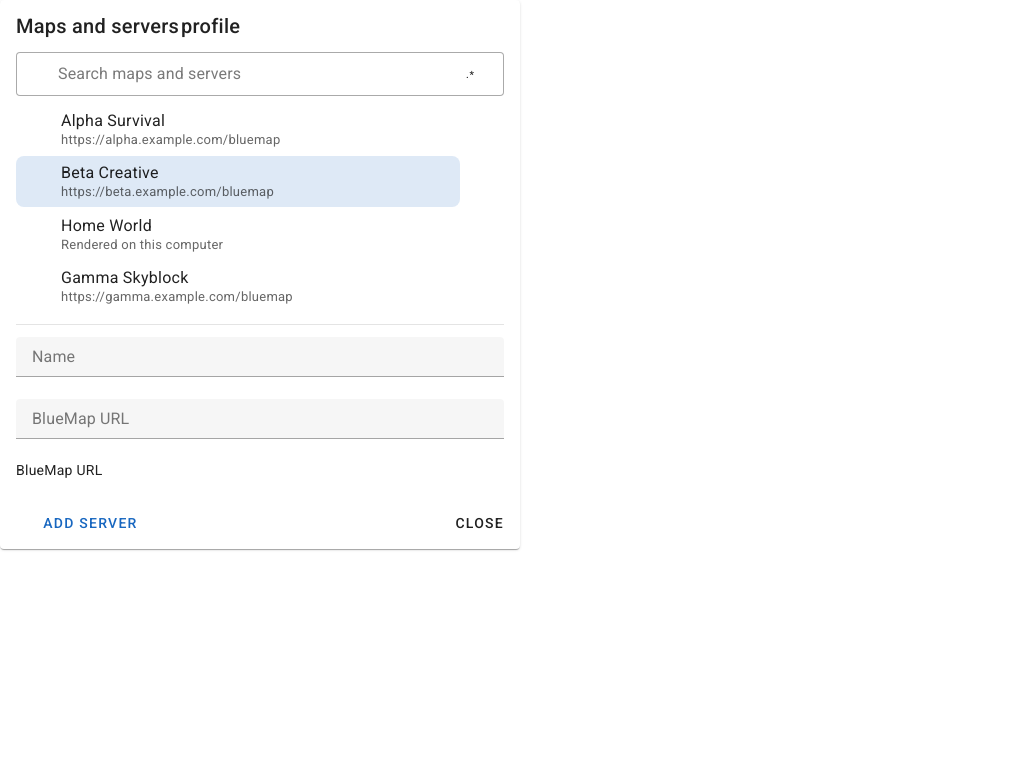
Test: the delete gate › is reachable from the row menu, through that same one gate
Right-click the option "Alpha Survival https://alpha.example.com/bluemap" at (171, 129), box [61,111,280,147]
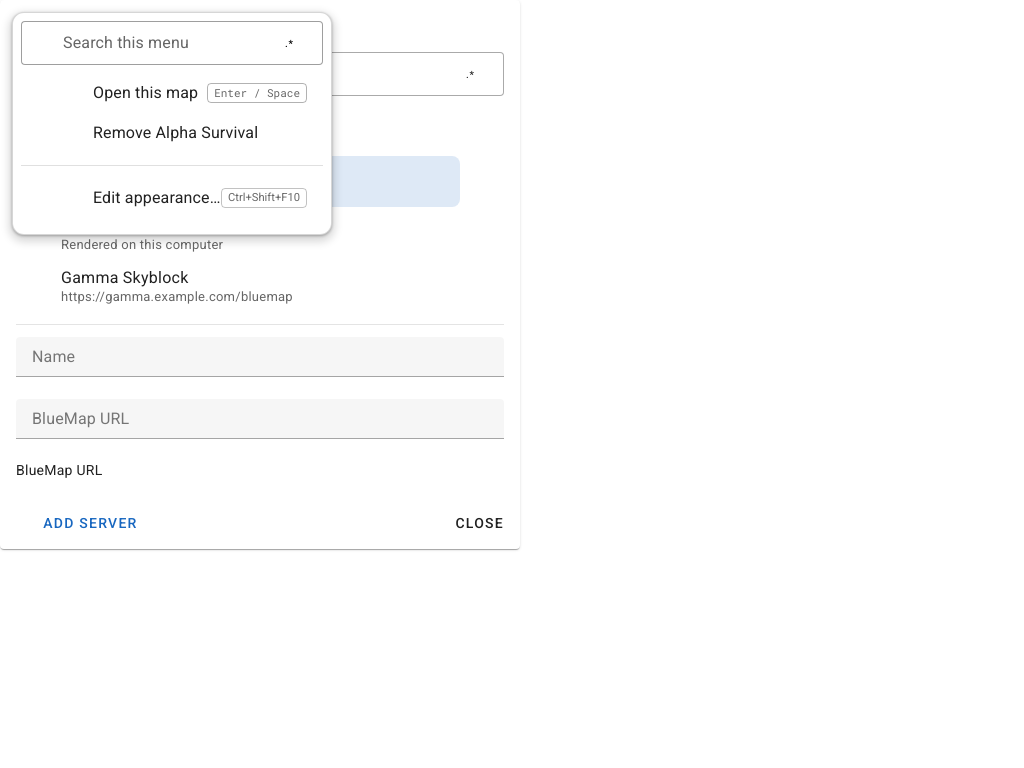
Click the list item "Remove Alpha Survival" at (176, 132), box [93,123,258,142]
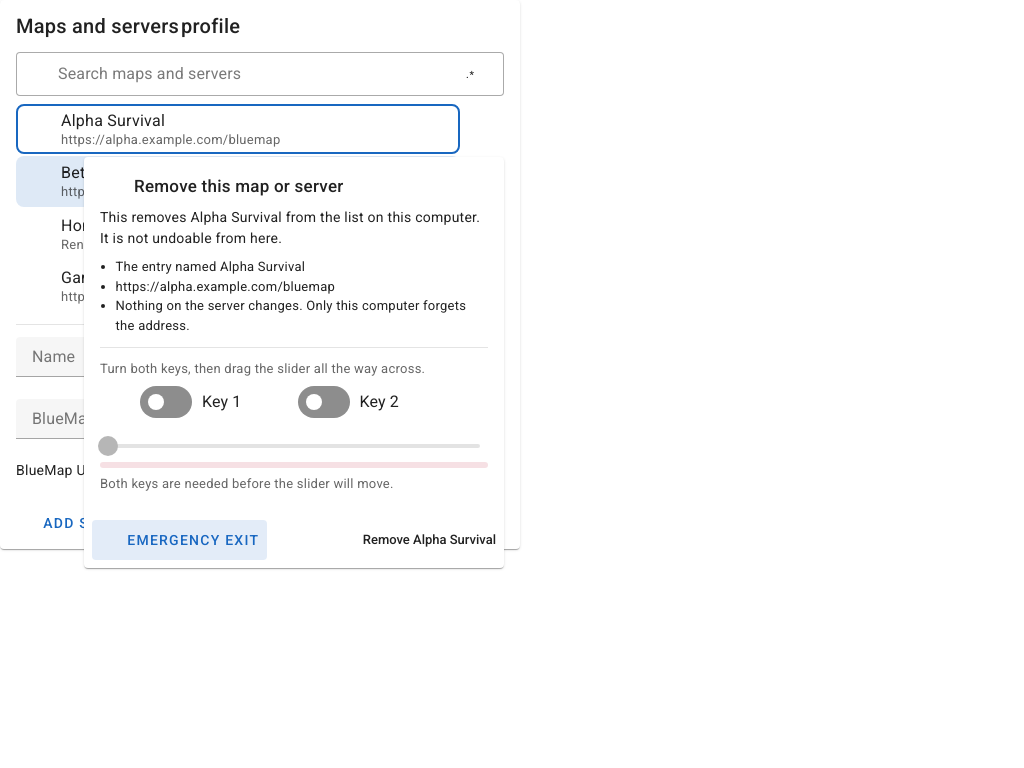
Now the text "Turn both keys" is shown, box [100,361,425,376]
